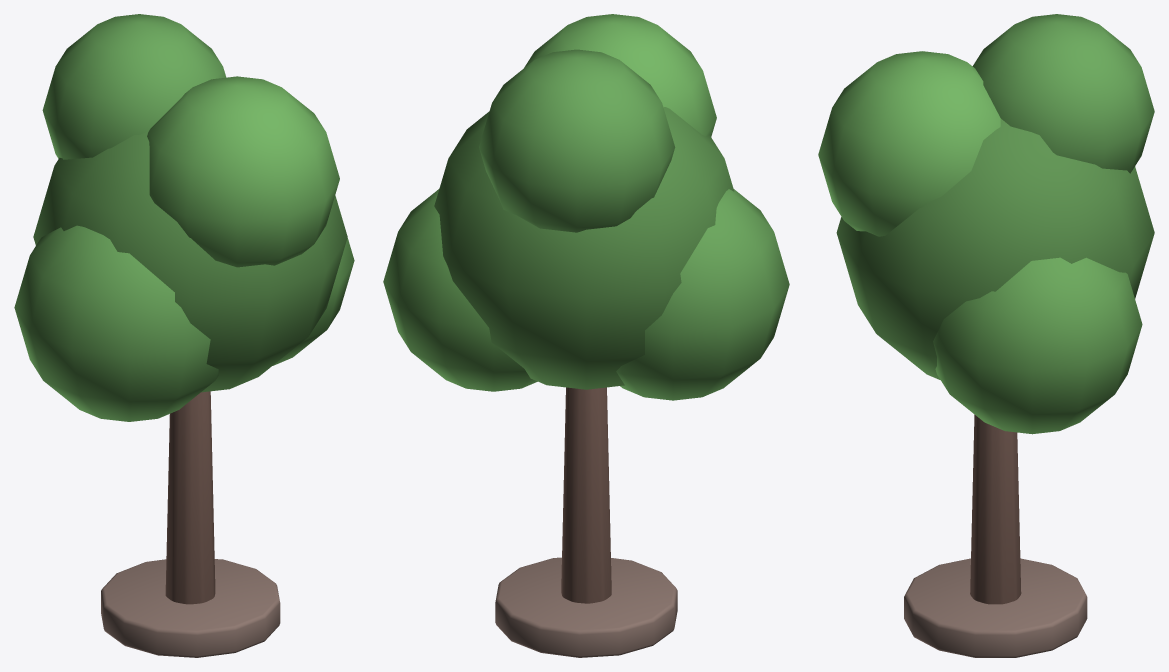
Rendered from prop_tree_b.glb.
3 renders of one model, left to right at view 1: azimuth 30°, elevation 25°; view 2: azimuth 150°, elevation 25°; view 3: azimuth 270°, elevation 25°, orthographic.
Visible parts, largest first — view 1: prop_tree_b; view 2: prop_tree_b; view 3: prop_tree_b.
Boxes of the visible parts, x1,y1,x2,y2 form: prop_tree_b: [14, 14, 354, 657]; prop_tree_b: [383, 14, 789, 657]; prop_tree_b: [818, 14, 1154, 657].
Size of the model in its own units: 3.25 by 5.33 by 2.75.
